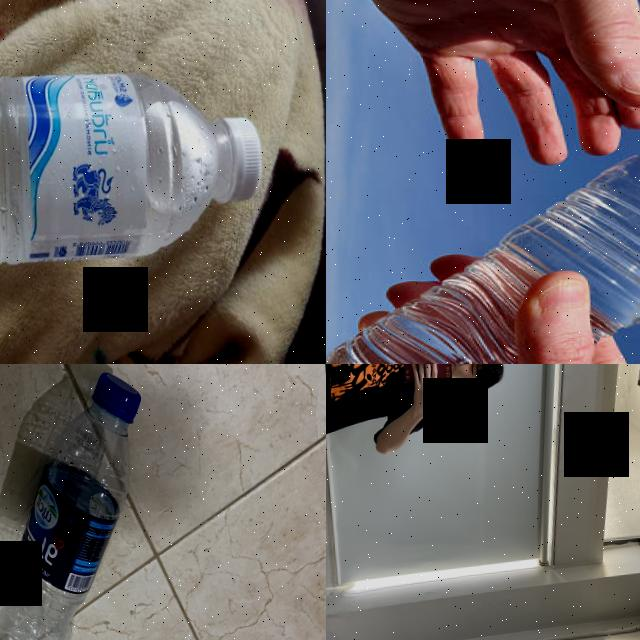bottle: (326, 114, 640, 364), (0, 52, 266, 289), (0, 365, 167, 640)
